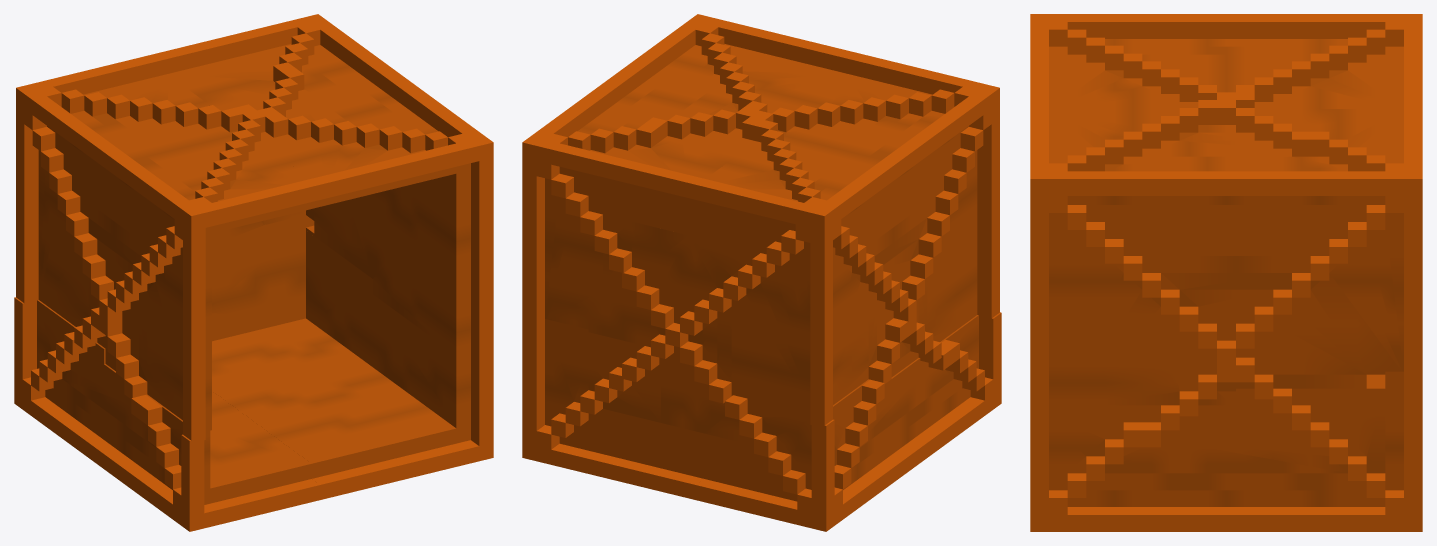
File: CrushedBox.fbx
3 renders of one model, left to right at view 1: azimuth 30°, elevation 25°; view 2: azimuth 150°, elevation 25°; view 3: azimuth 270°, elevation 25°, orthographic. The views are drawn at different scales.
Visible parts, largest first — view 1: CrushedBox2.Merged, CrushedBox1.Merged, CrushedBox3.Merged, CrushedBox4.Merged; view 2: CrushedBox2.Merged, CrushedBox1.Merged, CrushedBox4.Merged, CrushedBox3.Merged; view 3: CrushedBox1.Merged, CrushedBox3.Merged, CrushedBox2.Merged.
Boxes of the visible parts, bbox=[...] form: CrushedBox2.Merged: bbox=[16, 53, 334, 443]; CrushedBox1.Merged: bbox=[159, 14, 493, 372]; CrushedBox3.Merged: bbox=[212, 215, 493, 499]; CrushedBox4.Merged: bbox=[14, 297, 319, 531]; CrushedBox2.Merged: bbox=[588, 53, 999, 425]; CrushedBox1.Merged: bbox=[522, 14, 856, 335]; CrushedBox4.Merged: bbox=[661, 312, 1001, 531]; CrushedBox3.Merged: bbox=[522, 319, 704, 499]; CrushedBox1.Merged: bbox=[1030, 92, 1422, 430]; CrushedBox3.Merged: bbox=[1030, 371, 1422, 531]; CrushedBox2.Merged: bbox=[1030, 14, 1422, 108].
Bounding box in the file's own units: 210 × 208 × 210.
